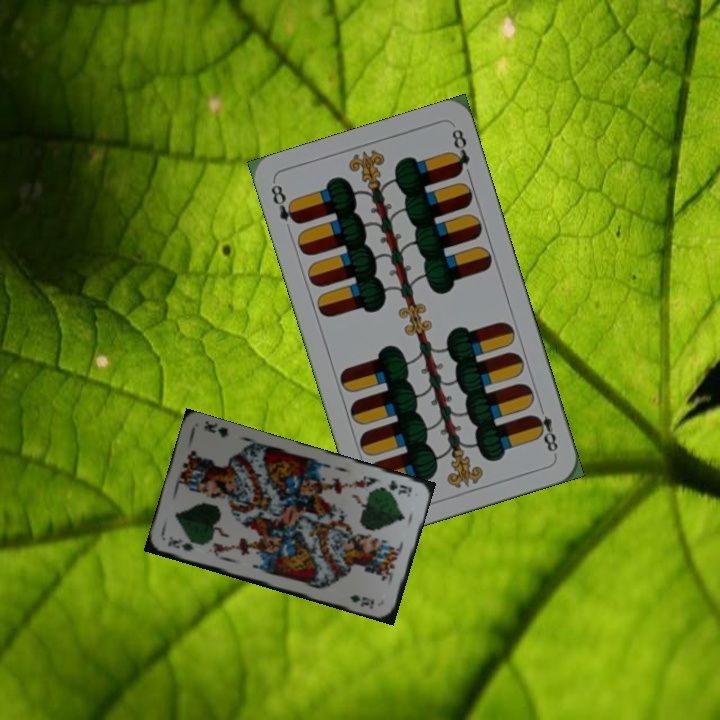E8: (528, 400, 561, 458), (267, 180, 302, 227)
GK: (383, 476, 414, 499), (163, 533, 196, 554)
